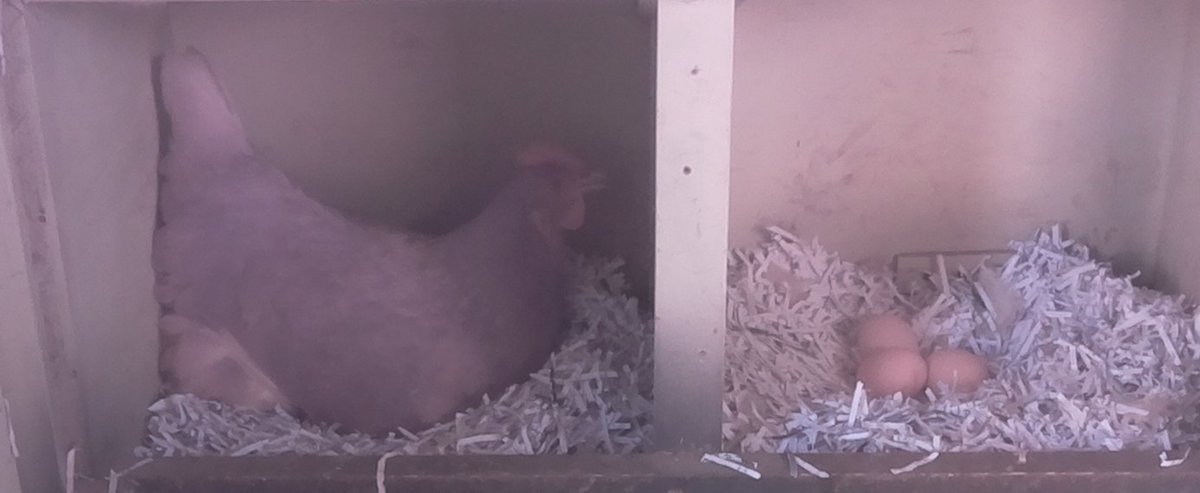egg: (852, 345, 931, 392), (850, 313, 922, 358), (921, 348, 990, 390)
hen: (141, 44, 610, 435)
